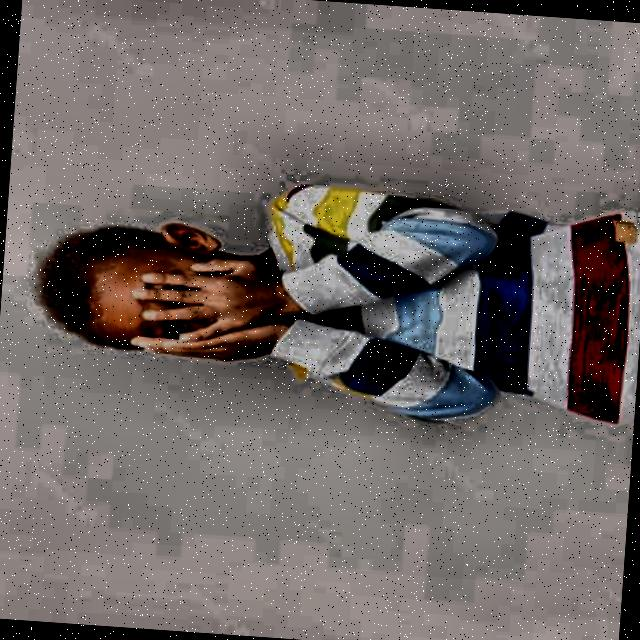fear: (24, 210, 286, 377)
